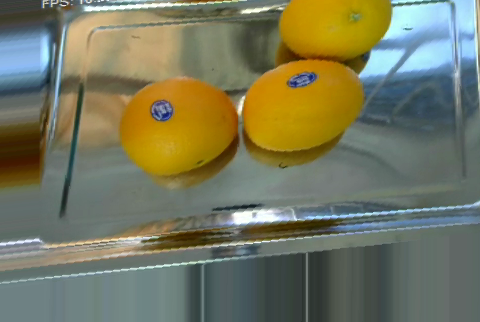Orange: (118, 75, 238, 177), (241, 59, 365, 152), (277, 0, 392, 58)
